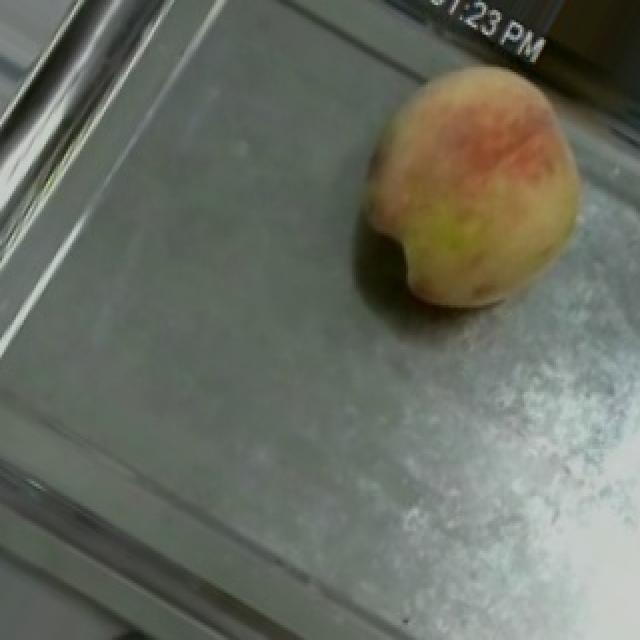Fruit: (312, 15, 630, 352)
